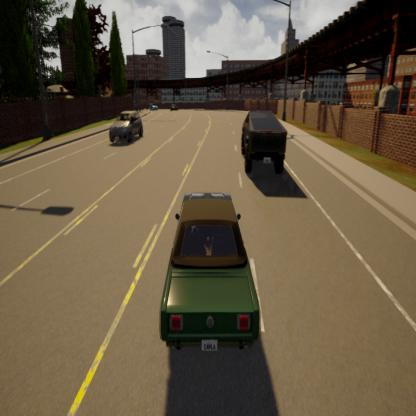Cars: (161, 191, 260, 354), (242, 108, 286, 176), (108, 105, 144, 146)
